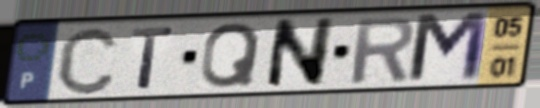C: (53, 24, 121, 97)
M: (403, 9, 493, 87)
N: (262, 15, 338, 92)
Q: (197, 21, 264, 91)
R: (348, 15, 417, 86)
T: (129, 25, 176, 92)
